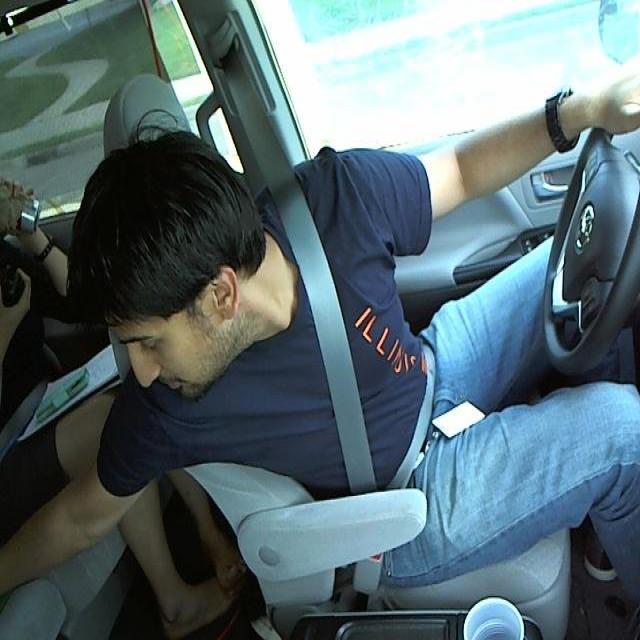seatbelt: (280, 223, 434, 481)
